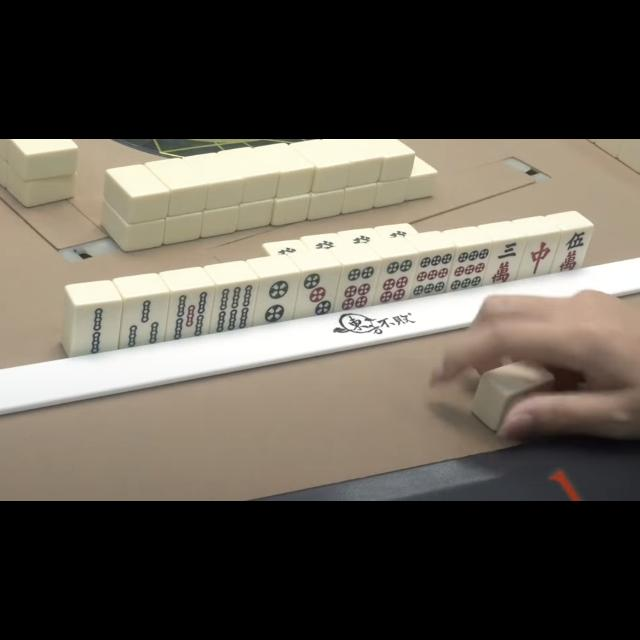b2: (72, 304, 121, 354)
b3: (122, 296, 166, 346)
b5: (168, 290, 212, 338)
b6: (213, 284, 255, 330)
c3: (489, 240, 523, 284)
c5: (556, 229, 592, 273)
d2: (258, 276, 296, 322)
d3: (298, 270, 336, 316)
d6: (338, 264, 378, 310), (378, 257, 414, 303)
d9: (414, 250, 452, 294), (452, 246, 488, 290)
dr: (522, 236, 556, 276)
